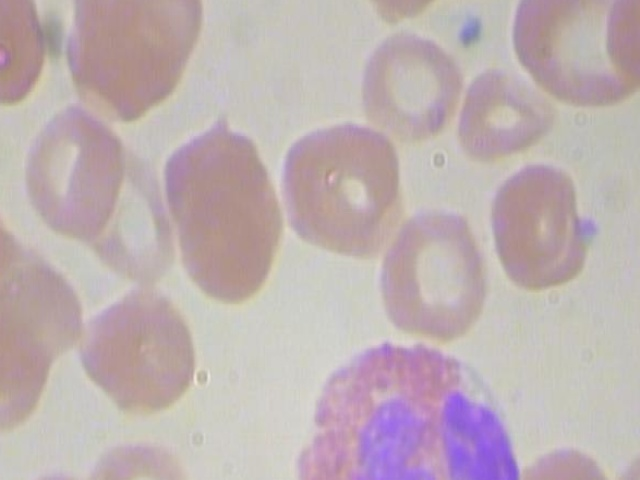Platelets: (451, 4, 489, 50)
RBC: (274, 110, 416, 263), (68, 278, 213, 424), (172, 146, 284, 311), (368, 197, 490, 347), (15, 99, 127, 245), (504, 0, 640, 116), (485, 155, 594, 296), (355, 12, 464, 153), (453, 60, 559, 167), (74, 429, 198, 480), (1, 467, 112, 480)
WBC: (282, 330, 547, 480)
